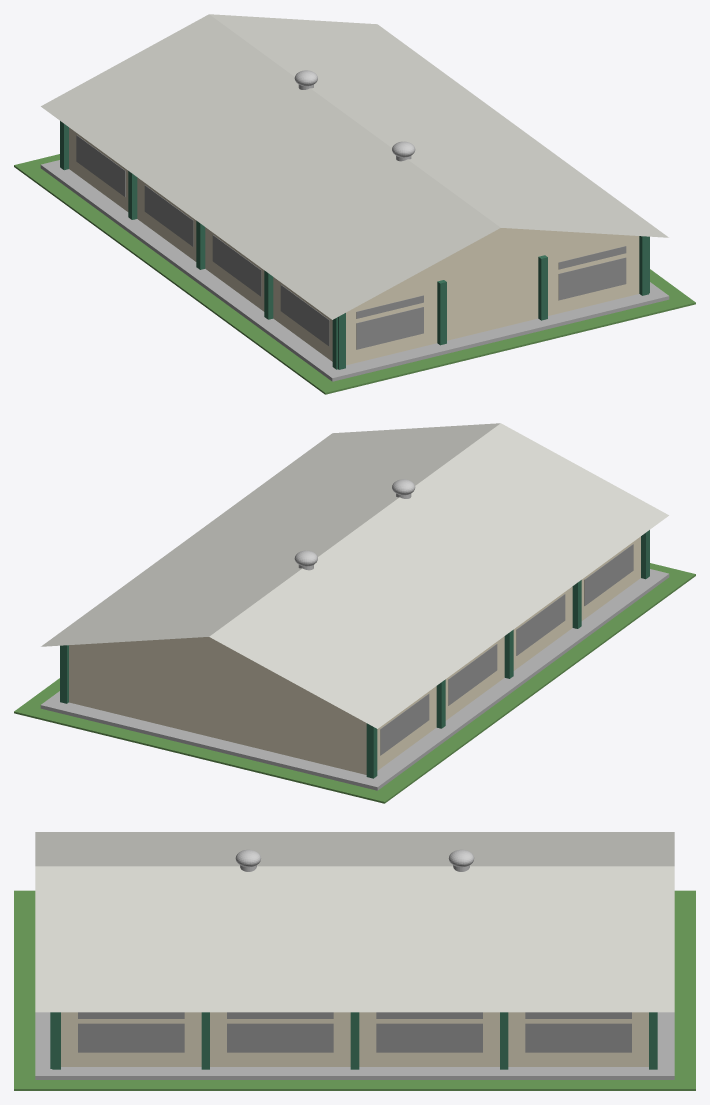
File: Type A.glb
3 renders of one model, top to bottom at view 1: azimuth 30°, elevation 25°; view 2: azimuth 150°, elevation 25°; view 3: azimuth 270°, elevation 25°, orthographic. The views are drawn at different scales.
Visible parts, largest first — view 1: Atap_Utama, Dinding_Utama, Alas_Rumput, Alas_Teras, Cube.002, Cube, Cube.014, Cube.010, Cube.018, Cube.006, Tiang_12_-0.1, Tiang_6_-0.1 (+1 smaller); view 2: Atap_Utama, Dinding_Utama, Alas_Rumput, Alas_Teras, Cube.010, Cube.006, Cube.014, Cube.018, Tiang_-0.1_28; view 3: Atap_Utama, Dinding_Utama, Alas_Rumput, Alas_Teras, Cube.004, Cube.008, Cube.012, Cube.016, Cube.005, Cube.009, Cube.013, Cube.017 (+5 smaller).
Boxes of the visible parts, box(x1,y1,x2,y2) form: Atap_Utama: box(41, 14, 668, 319); Dinding_Utama: box(69, 127, 639, 365); Alas_Rumput: box(14, 154, 695, 394); Alas_Teras: box(40, 160, 669, 381); Cube.002: box(558, 257, 626, 300); Cube: box(356, 307, 423, 349); Cube.014: box(144, 185, 193, 246); Cube.010: box(212, 235, 261, 296); Cube.018: box(76, 135, 125, 196); Cube.006: box(280, 285, 329, 346); Tiang_12_-0.1: box(538, 255, 547, 320); Tiang_6_-0.1: box(437, 280, 446, 345); Atap_Utama: box(41, 423, 668, 728); Dinding_Utama: box(69, 536, 640, 774); Alas_Rumput: box(14, 563, 695, 803); Alas_Teras: box(40, 569, 669, 790); Cube.010: box(516, 594, 565, 655); Cube.006: box(584, 544, 633, 605); Cube.014: box(448, 644, 497, 705); Cube.018: box(380, 694, 429, 755); Tiang_-0.1_28: box(366, 723, 377, 778); Atap_Utama: box(35, 832, 674, 1012); Dinding_Utama: box(61, 1012, 648, 1066); Alas_Rumput: box(14, 890, 695, 1090); Alas_Teras: box(35, 1012, 674, 1079); Cube.004: box(78, 1023, 184, 1052); Cube.008: box(227, 1023, 333, 1052); Cube.012: box(376, 1023, 482, 1052); Cube.016: box(525, 1023, 631, 1052); Cube.005: box(78, 1012, 184, 1018); Cube.009: box(227, 1012, 333, 1018); Cube.013: box(376, 1012, 482, 1018); Cube.017: box(525, 1012, 631, 1018).
Bounding box in the file's own units: 22 × 7.26 × 32.
